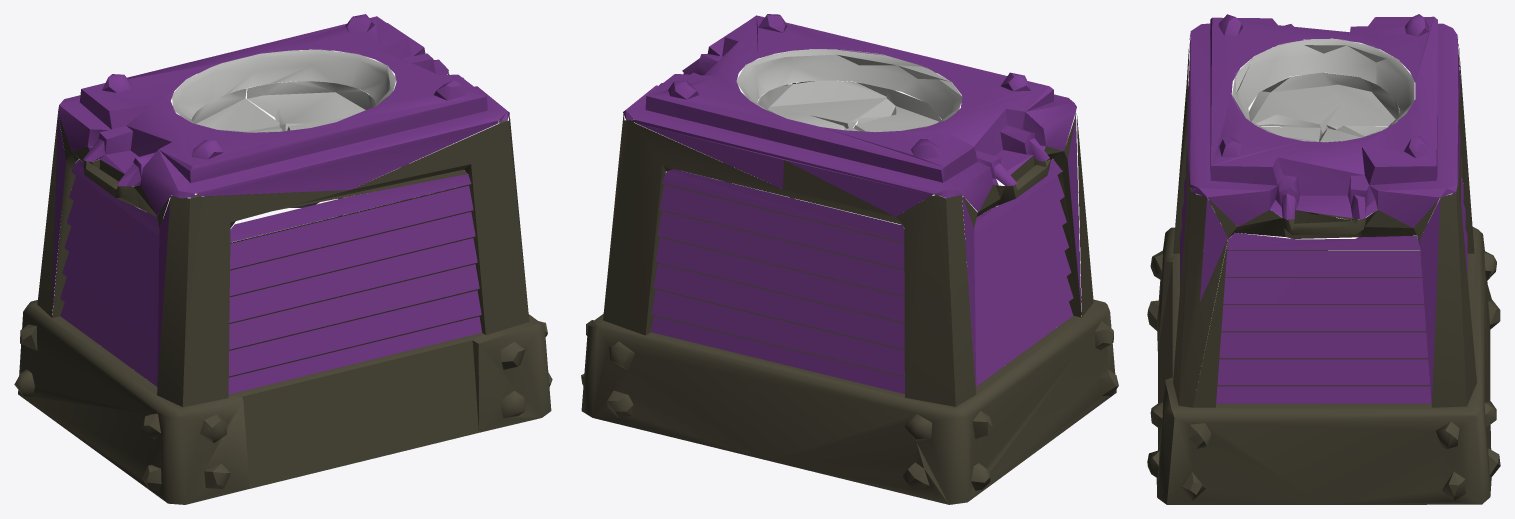
Rendered from active-provider-chest.glb.
3 renders of one model, left to right at view 1: azimuth 30°, elevation 25°; view 2: azimuth 150°, elevation 25°; view 3: azimuth 270°, elevation 25°, orthographic. The views are drawn at different scales.
Parts seen in each view (by area): view 1: body, anim_hatch_e, anim_hatch_w; view 2: body, anim_hatch_e, anim_hatch_w; view 3: body, anim_hatch_w, anim_hatch_e.
Part boxes in pixels (box(x1,y1,x2,y2)): body: box(14, 14, 552, 504); anim_hatch_e: box(247, 81, 375, 131); anim_hatch_w: box(191, 88, 282, 132); body: box(581, 14, 1118, 504); anim_hatch_e: box(757, 80, 886, 129); anim_hatch_w: box(844, 88, 941, 132); body: box(1147, 14, 1500, 504); anim_hatch_w: box(1249, 72, 1399, 134); anim_hatch_e: box(1262, 125, 1388, 142).
Bounding box in the file's own units: 1.01 × 0.7617 × 0.7356.
